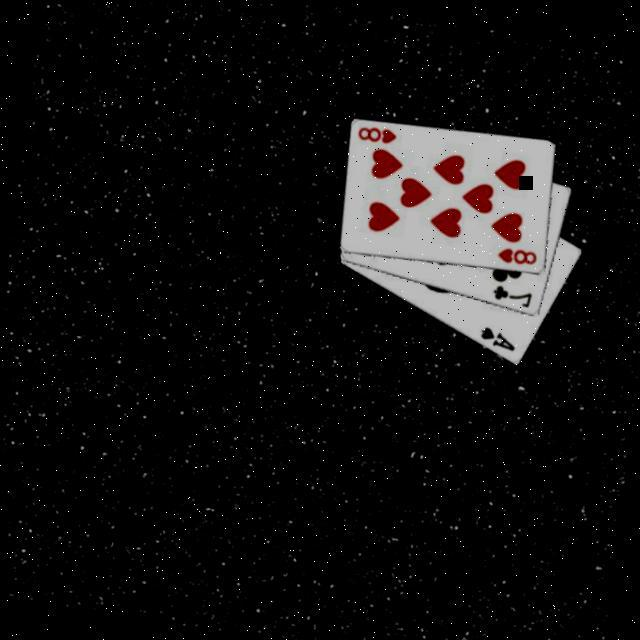7C: (486, 280, 533, 311)
8H: (492, 242, 538, 270), (352, 121, 398, 148)
AS: (474, 322, 518, 354)
